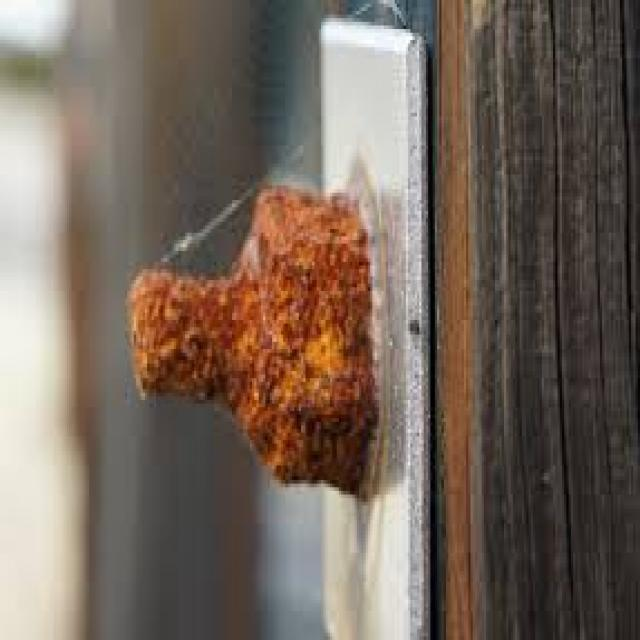Uniform Corrosion: (130, 187, 378, 494)
